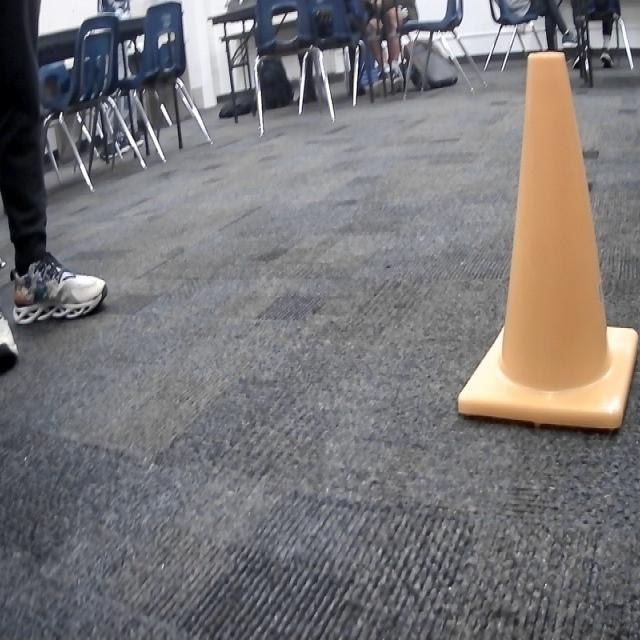cone: (452, 46, 640, 443)
